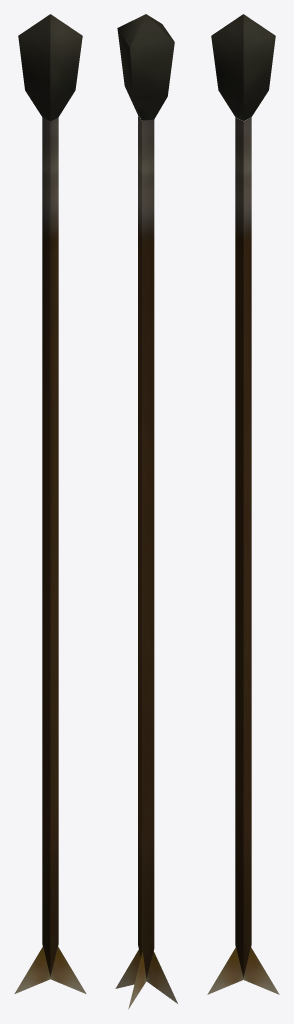
File: salamanderArrow.glb
3 views of the same model, side by side, from view 1: azimuth 90°, elevation 25°; view 2: azimuth 150°, elevation 25°; view 3: azimuth 270°, elevation 25° (orthographic).
Visible parts, largest first — view 1: salamanderArrow; view 2: salamanderArrow; view 3: salamanderArrow.
Boxes of the visible parts, x1,y1,x2,y2 form: salamanderArrow: [14, 14, 86, 993]; salamanderArrow: [115, 14, 177, 1009]; salamanderArrow: [207, 14, 279, 994].
Bounding box in the file's own units: 0.0668 × 0.9933 × 0.0668.
1 material, 1 textured.
